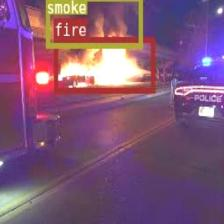fire: (54, 36, 154, 92)
smoke: (45, 0, 142, 47)
